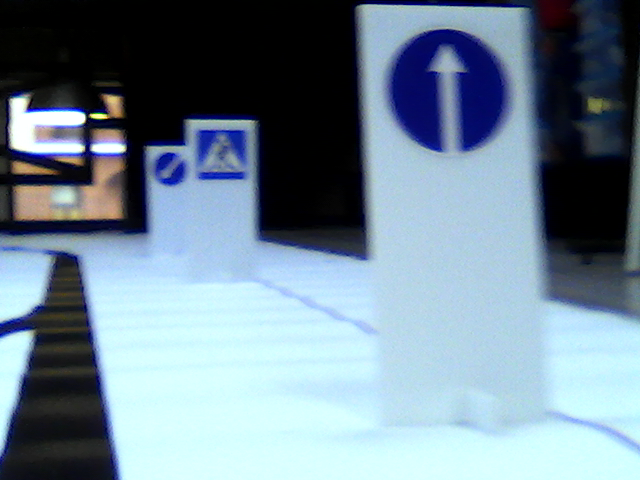forw: (387, 26, 512, 152)
pesh: (195, 129, 248, 179)
prep: (151, 150, 186, 184)
